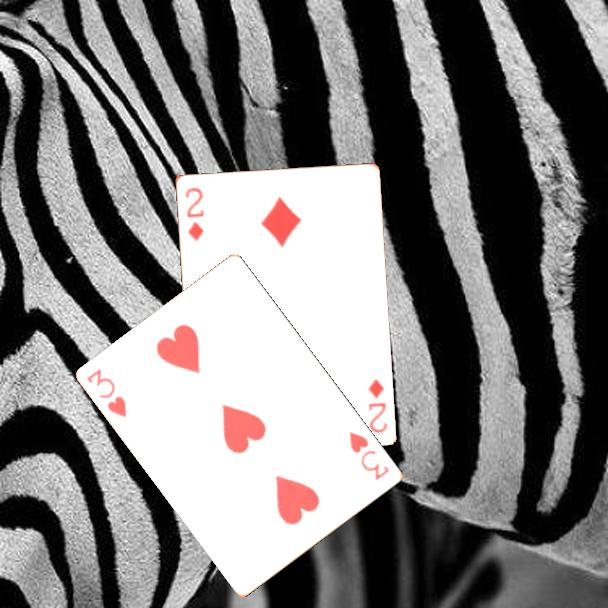d02: (181, 184, 206, 244), (364, 375, 389, 435)
h03: (346, 428, 392, 483), (84, 365, 130, 420)
